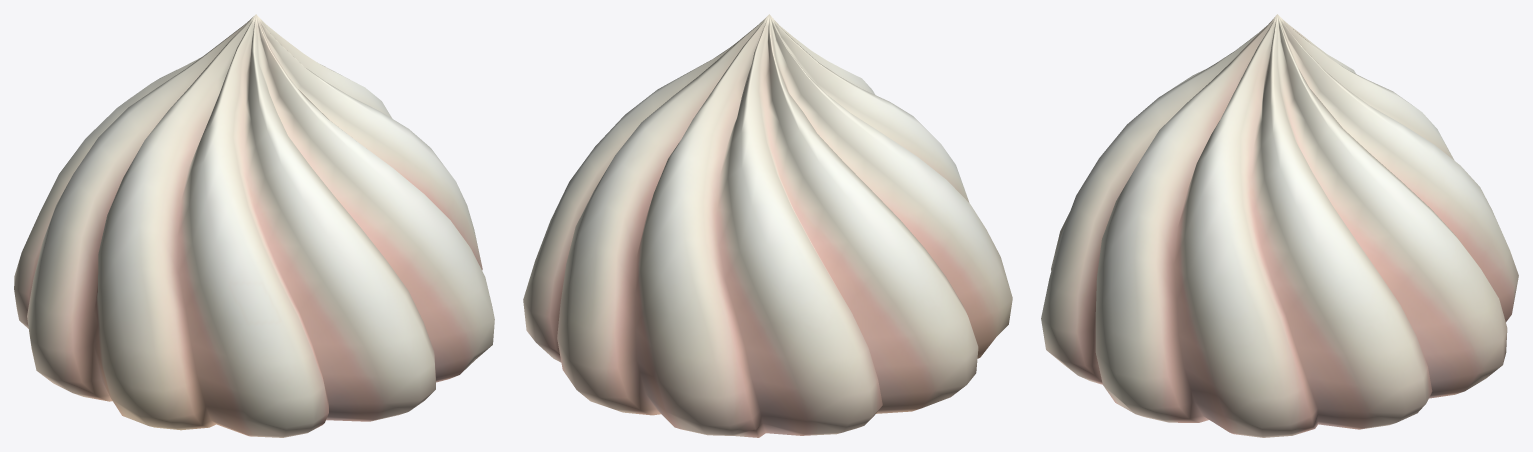
File: Whippedcream_Singleunit_02.fbx
3 renders of one model, left to right at view 1: azimuth 30°, elevation 25°; view 2: azimuth 150°, elevation 25°; view 3: azimuth 270°, elevation 25°, orthographic.
Visible parts, largest first — view 1: Whippedcream_Singleunit; view 2: Whippedcream_Singleunit; view 3: Whippedcream_Singleunit.
Part boxes in pixels (box(x1,y1,x2,y2)): Whippedcream_Singleunit: box(14, 14, 494, 437); Whippedcream_Singleunit: box(523, 14, 1012, 437); Whippedcream_Singleunit: box(1041, 14, 1518, 437).
Bounding box in the file's own units: 196 × 156 × 193.
Materials: 1 (1 with a texture image).
